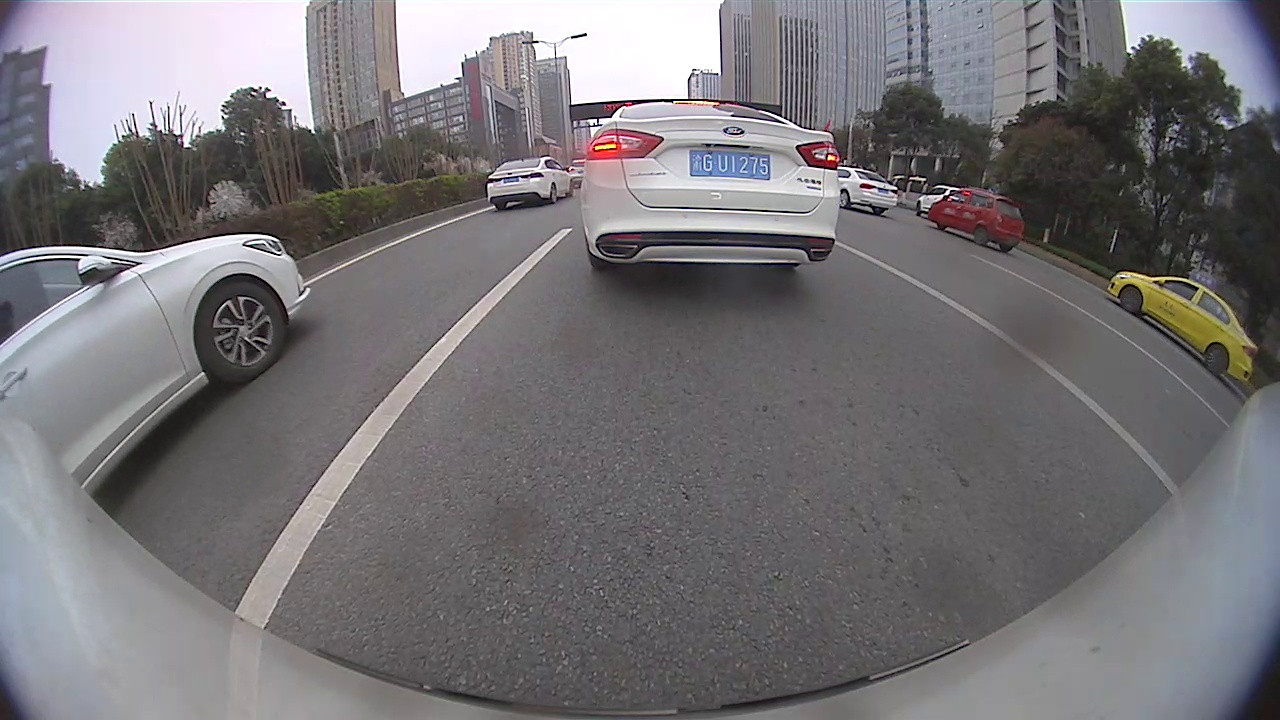car: (1, 233, 313, 499), (578, 100, 842, 275), (1104, 266, 1258, 385), (926, 186, 1025, 253), (486, 156, 574, 212), (837, 166, 898, 216), (915, 184, 962, 216)
front: (193, 279, 288, 380), (1119, 285, 1143, 321)
rear: (1202, 340, 1232, 376), (971, 222, 999, 249), (550, 183, 564, 219), (838, 186, 851, 213)
